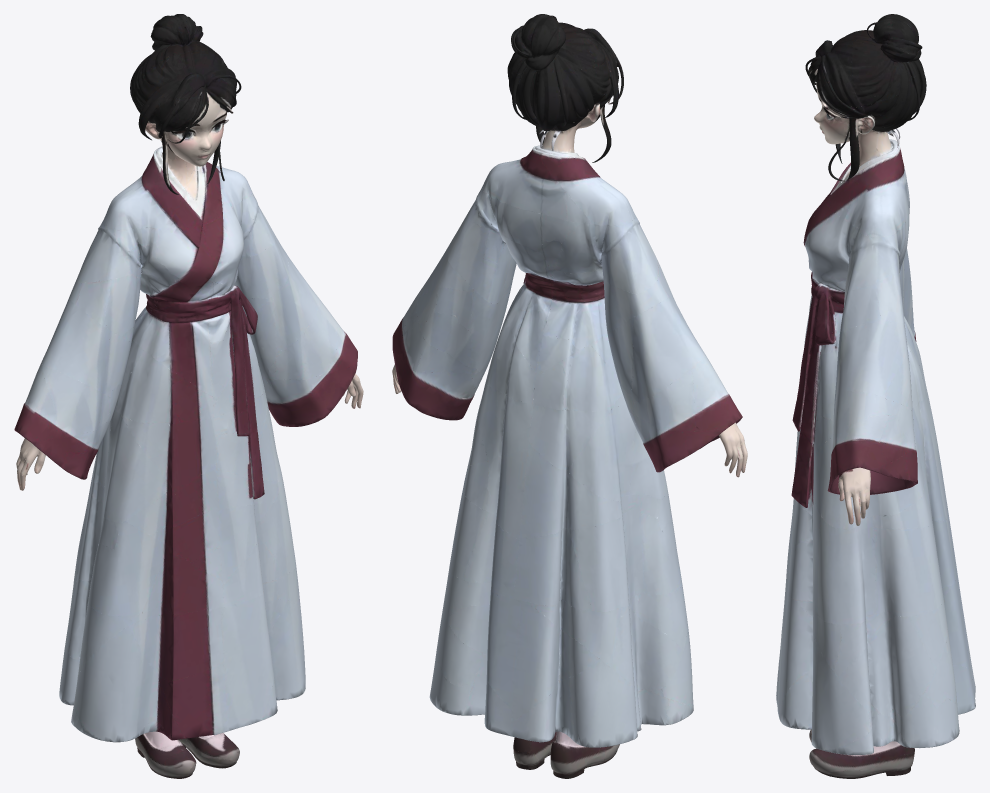
The model's file is 아비사.glb.
3 renders of one model, left to right at view 1: azimuth 30°, elevation 25°; view 2: azimuth 150°, elevation 25°; view 3: azimuth 270°, elevation 25°, orthographic. The views are drawn at different scales.
Visible parts, largest first — view 1: Mesh_0; view 2: Mesh_0; view 3: Mesh_0.
Boxes of the visible parts, left/top/right/bottom form: Mesh_0: left=14, top=14, right=363, bottom=778; Mesh_0: left=392, top=14, right=747, bottom=778; Mesh_0: left=776, top=14, right=975, bottom=778.
Bounding box in the file's own units: 0.4905 × 1 × 0.2421.
1 material, 1 textured.
